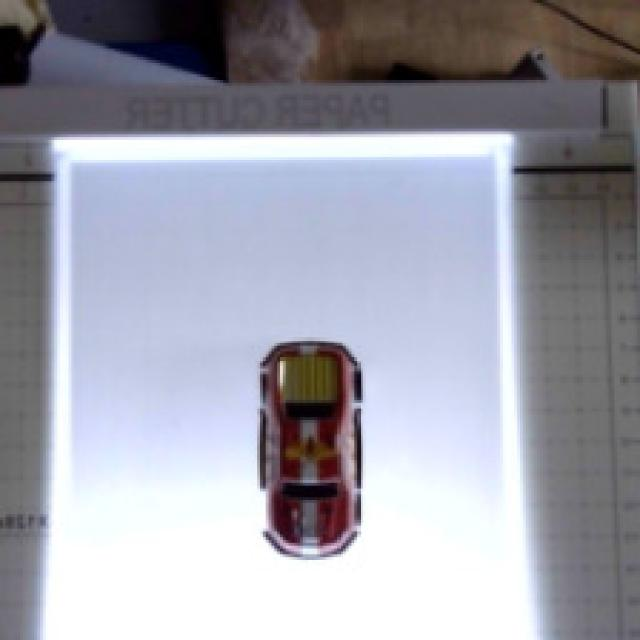Red Car: (172, 313, 446, 623)
